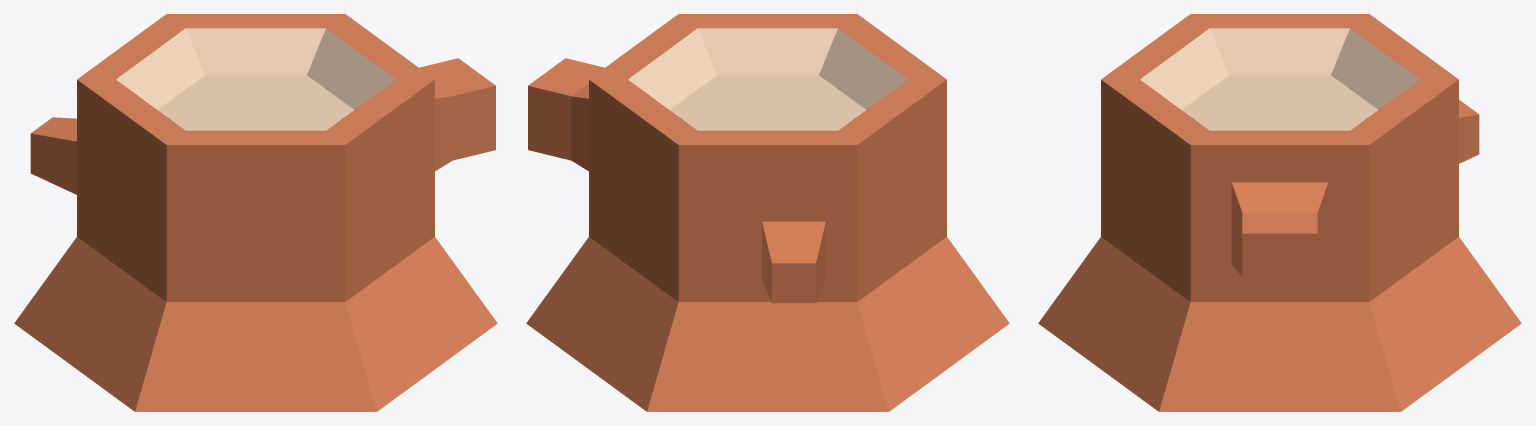
File: stump_roundDetailed.dae
3 views of the same model, side by side, from view 1: azimuth 30°, elevation 25°; view 2: azimuth 150°, elevation 25°; view 3: azimuth 270°, elevation 25° (orthographic).
Visible parts, largest first — view 1: stump_roundDetailed; view 2: stump_roundDetailed; view 3: stump_roundDetailed.
Boxes of the visible parts, left/top/right/bottom form: stump_roundDetailed: left=14, top=14, right=497, bottom=411; stump_roundDetailed: left=526, top=14, right=1009, bottom=411; stump_roundDetailed: left=1038, top=14, right=1521, bottom=411.
Bounding box in the file's own units: 0.3565 × 0.2065 × 0.371.
